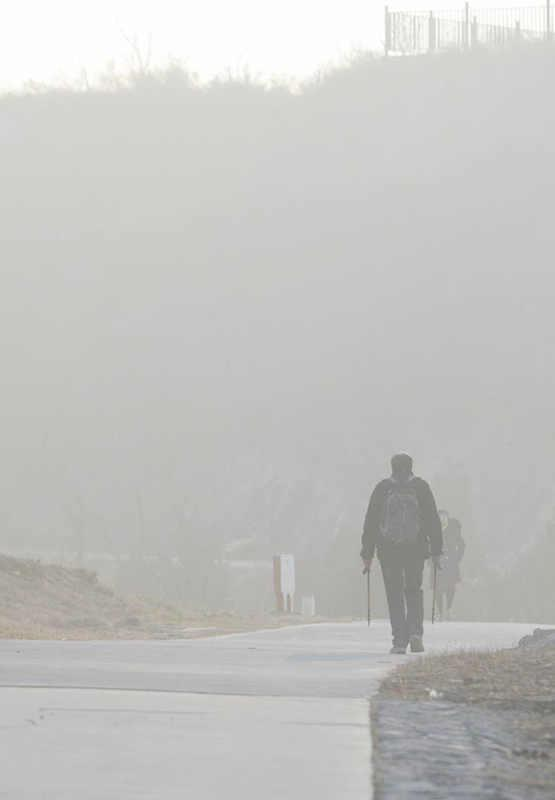person: (360, 453, 444, 654), (425, 509, 467, 623)
